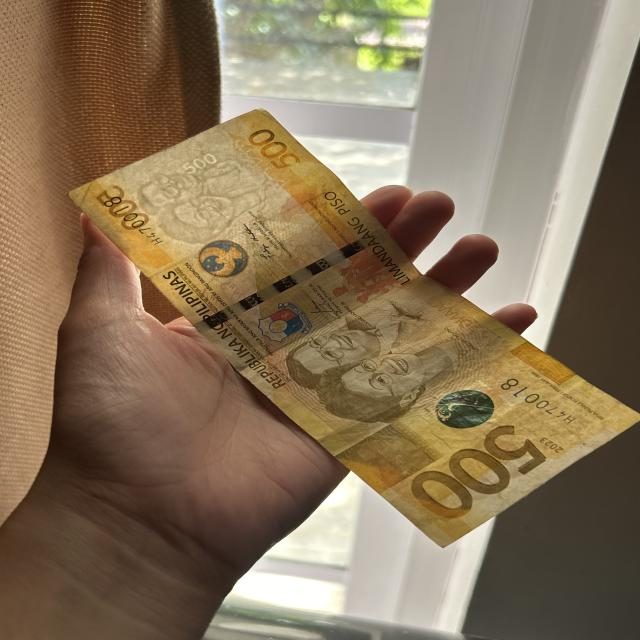concealed_value: (351, 428, 428, 480)
optically_variable_device: (432, 387, 499, 430)
value_watermark: (177, 148, 224, 178)
watermark: (127, 159, 304, 240)
